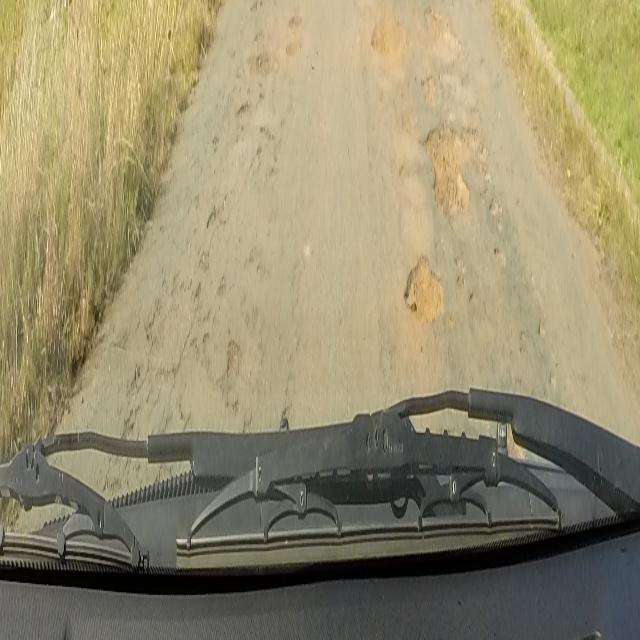pothole: (422, 109, 479, 223), (402, 247, 444, 324), (368, 4, 406, 57), (285, 14, 302, 61), (255, 48, 278, 80)
